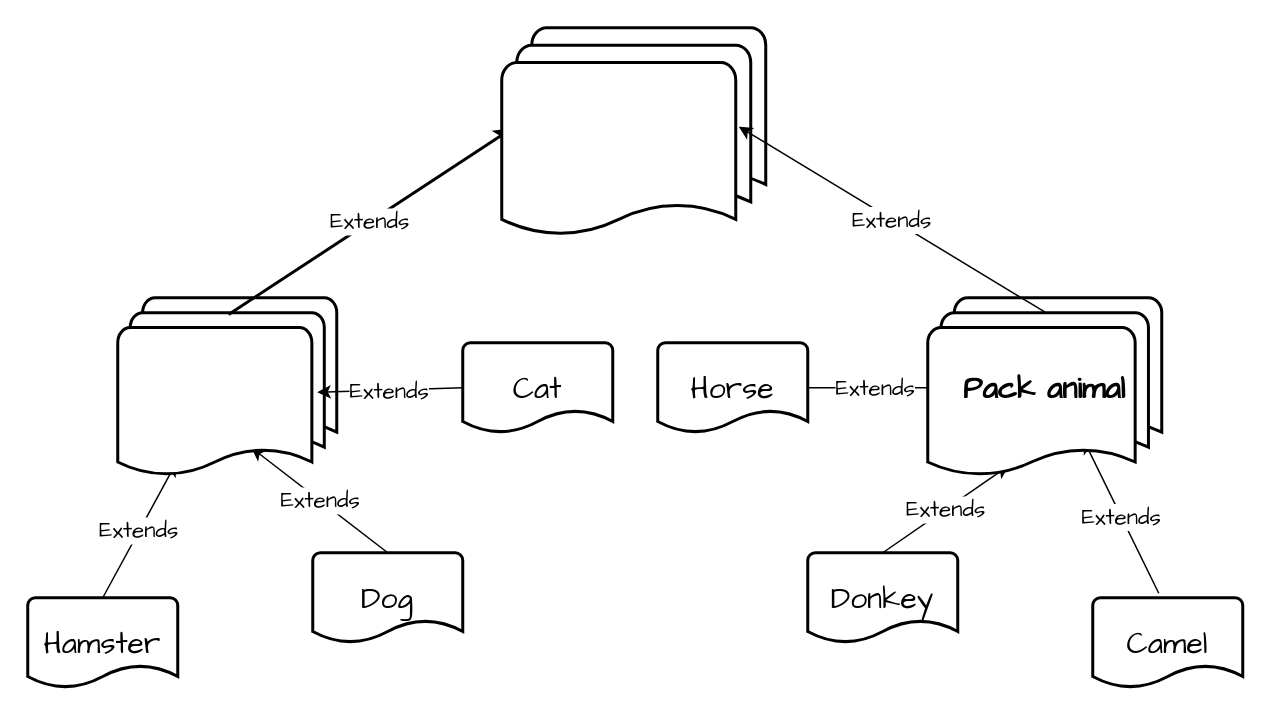
Some shapes in this 1269 by 714 pixel diagram are drawn without their labels. Each missing label, with the box of its shape:
Animal: (500, 26, 766, 238)
Domestic animal: (116, 296, 338, 478)
